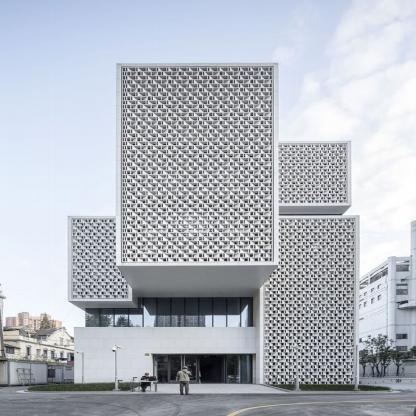Building Outline: (67, 62, 360, 385)
Door: (169, 355, 226, 383)
Facade: (67, 63, 361, 386)
Glass Wall: (86, 297, 253, 327), (227, 355, 252, 383), (154, 355, 168, 383)
Window: (121, 66, 273, 262), (264, 218, 355, 384), (71, 218, 127, 298), (279, 143, 348, 203)
